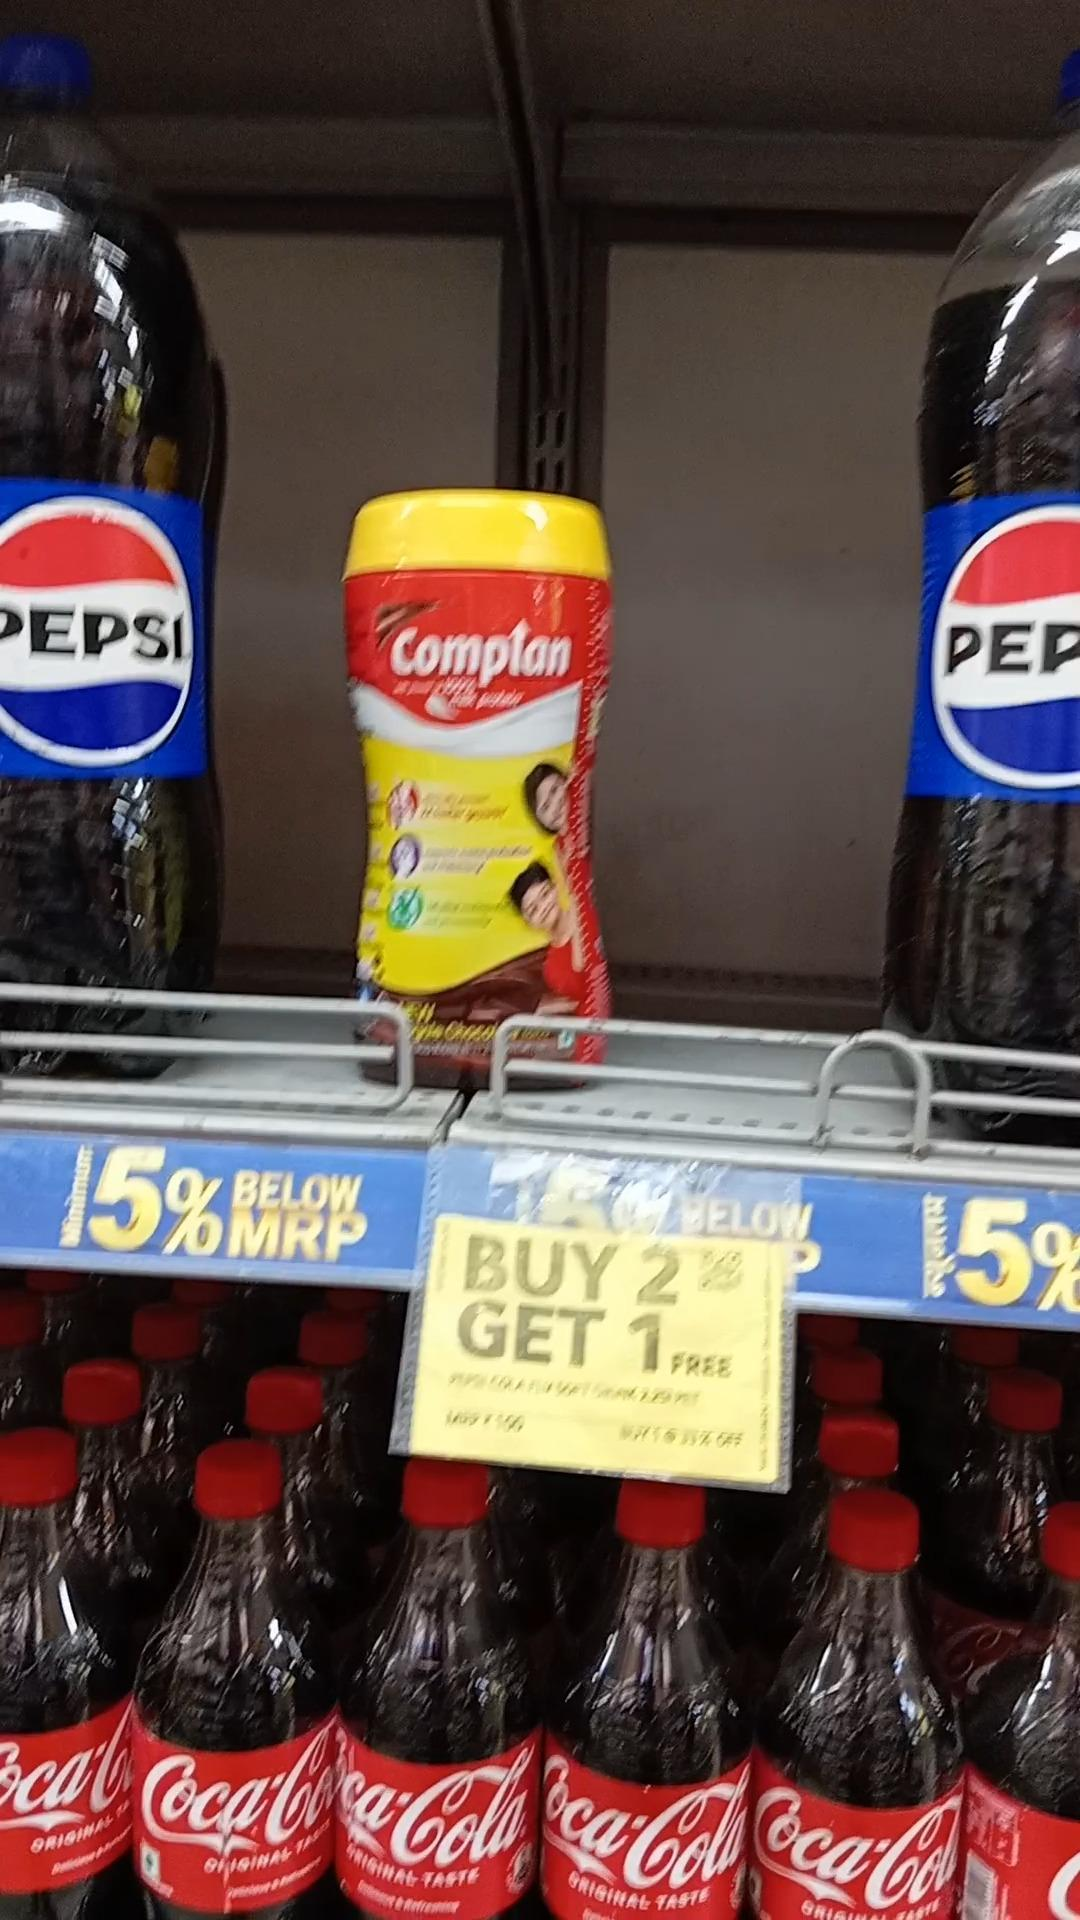COMPLAN_CHOCOLATE_500_GMS_JAR: (343, 495, 608, 1084)
